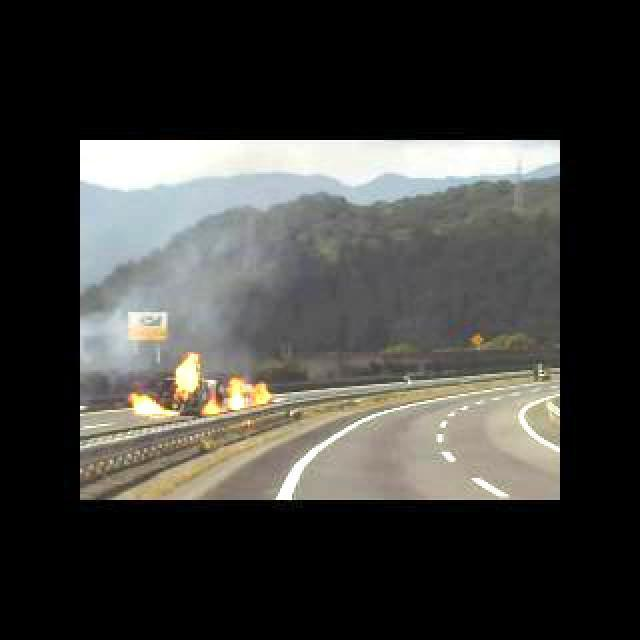Fire: (202, 380, 272, 414), (124, 392, 184, 418), (174, 350, 200, 394)
Smoke: (96, 230, 270, 376)
